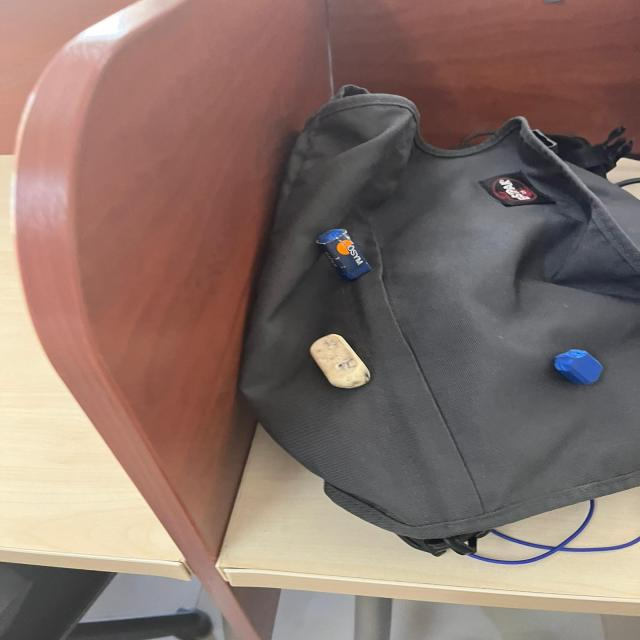eraser: (306, 222, 384, 288), (302, 327, 376, 391), (547, 344, 607, 388)
